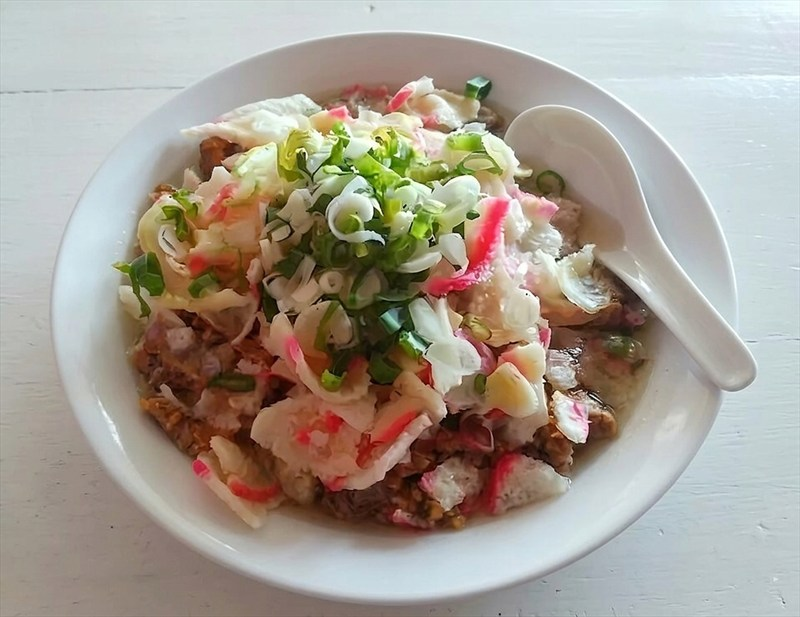Soto Ayam: (132, 117, 628, 525)
